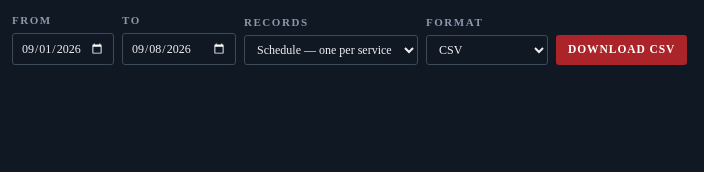
Test: downloading › surfaces a refusal instead of failing silently
Click the button "Download CSV" at (622, 50), box left=556, top=35, right=687, bottom=64
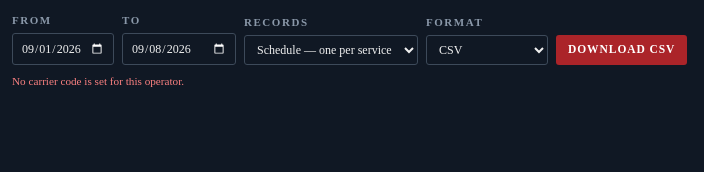
expect the message shows "No carrier code is set": met, box left=12, top=74, right=184, bottom=86
